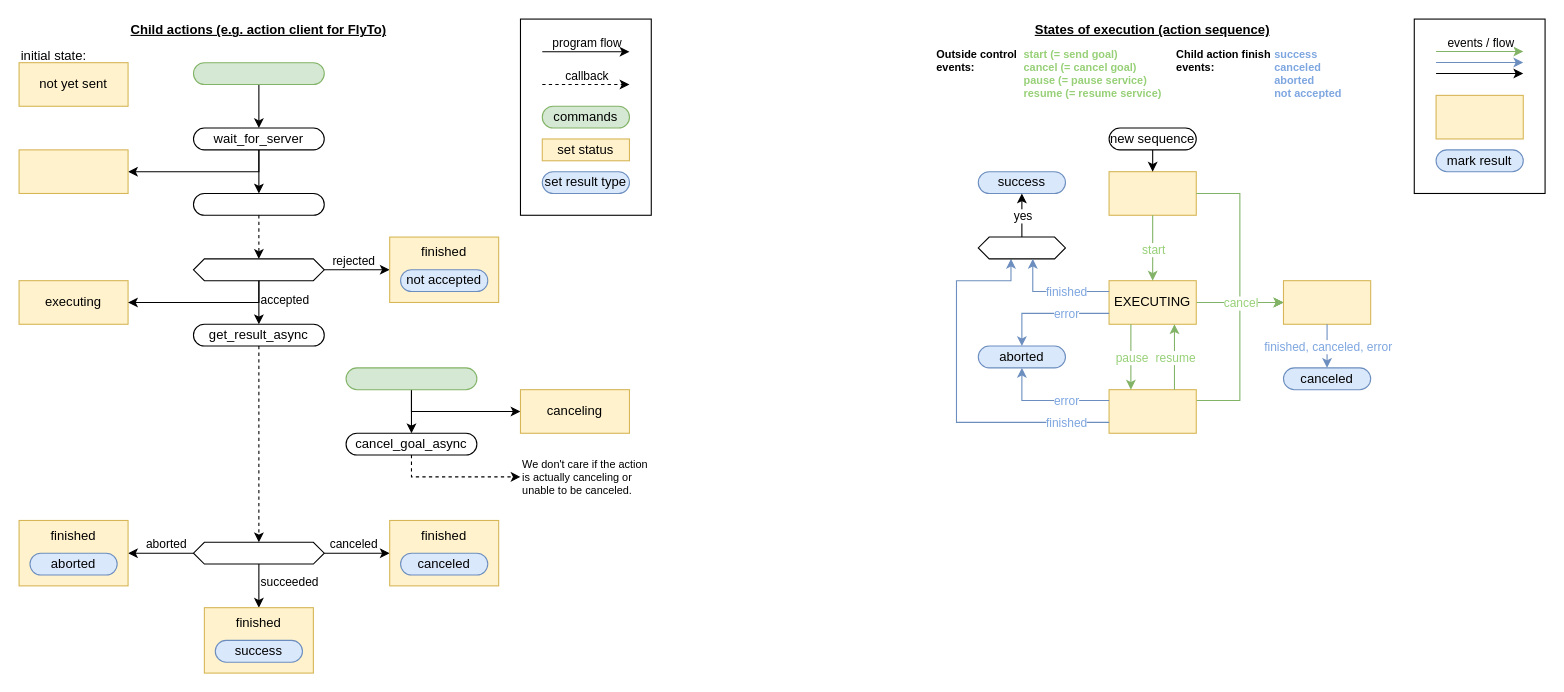
Some shapes in this 1564 by 692 pixel diagram are drawn without their labels. Here are the shapes that lost their labels. From the top down, the box of each, then its label:
(192, 62, 324, 84): start action
(1435, 94, 1523, 139): execution state
(18, 149, 128, 193): pending
(192, 192, 324, 215): send_goal_async
(1108, 171, 1196, 215): IDLE
(977, 236, 1065, 259): last action?
(192, 258, 324, 281): accepted or not?
(1282, 280, 1371, 324): CANCELLING
(345, 367, 477, 390): cancel action
(1108, 389, 1196, 433): PAUSED
(192, 541, 324, 564): what is the result?
